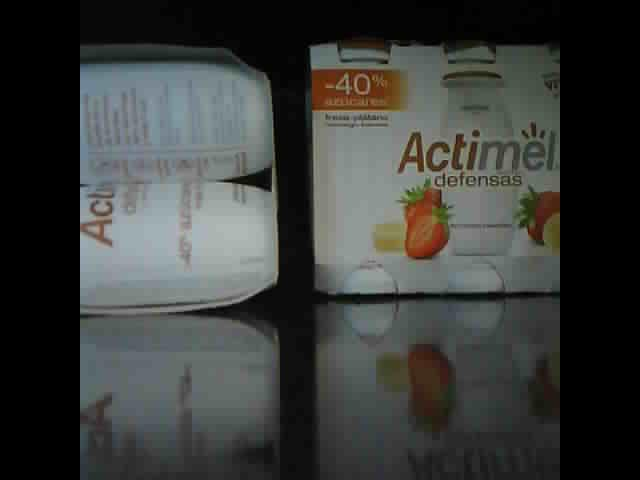actimel: (306, 31, 560, 297), (80, 41, 282, 320)
